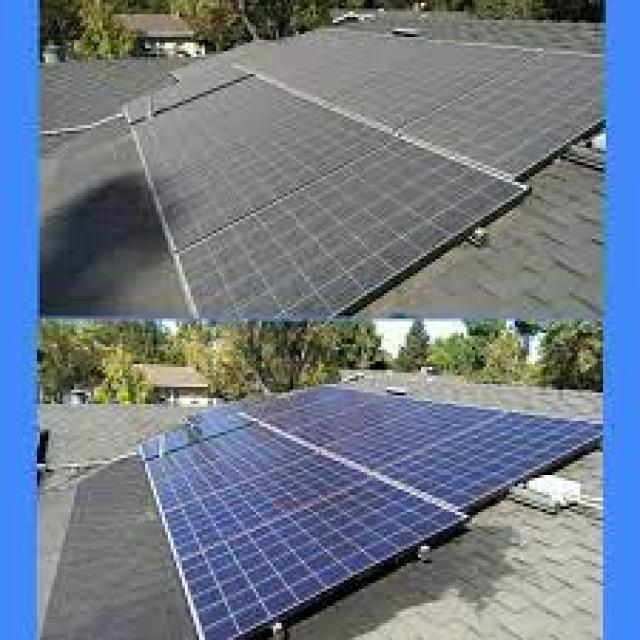clean-solar-panel: (140, 386, 600, 639)
